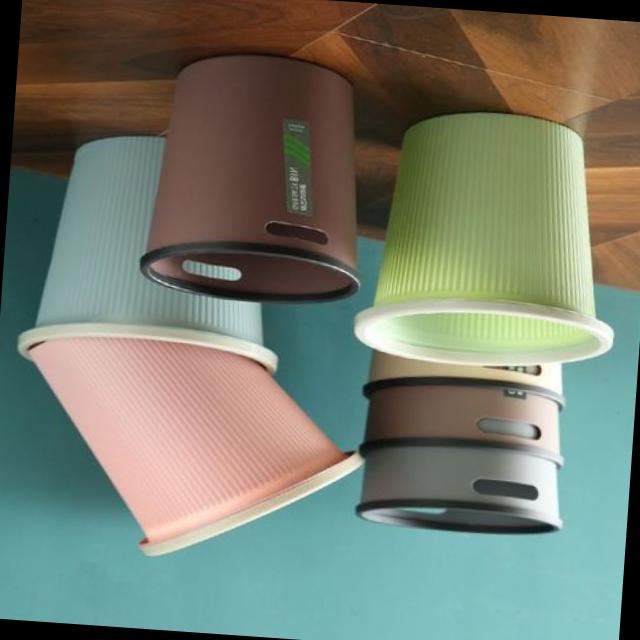dustbin: (12, 337, 372, 577), (350, 96, 634, 378), (13, 124, 298, 382), (130, 42, 380, 317), (354, 440, 568, 540), (357, 381, 572, 474)
